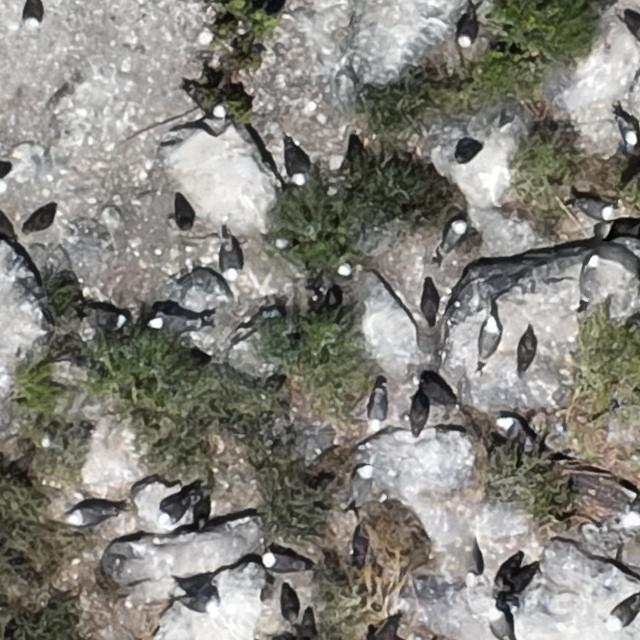umineko: (159, 490, 198, 524), (188, 84, 223, 116), (579, 254, 600, 304), (462, 542, 484, 588), (324, 262, 356, 290), (486, 606, 514, 638), (352, 466, 372, 502), (288, 148, 308, 184), (150, 314, 192, 331), (479, 320, 498, 356), (178, 594, 216, 612), (88, 309, 124, 328), (222, 243, 240, 280), (70, 507, 106, 525), (263, 553, 298, 571), (460, 13, 478, 46), (370, 391, 386, 426), (579, 200, 610, 218), (444, 221, 464, 248), (623, 14, 639, 43), (498, 416, 519, 438), (620, 120, 636, 146), (28, 2, 40, 26)
